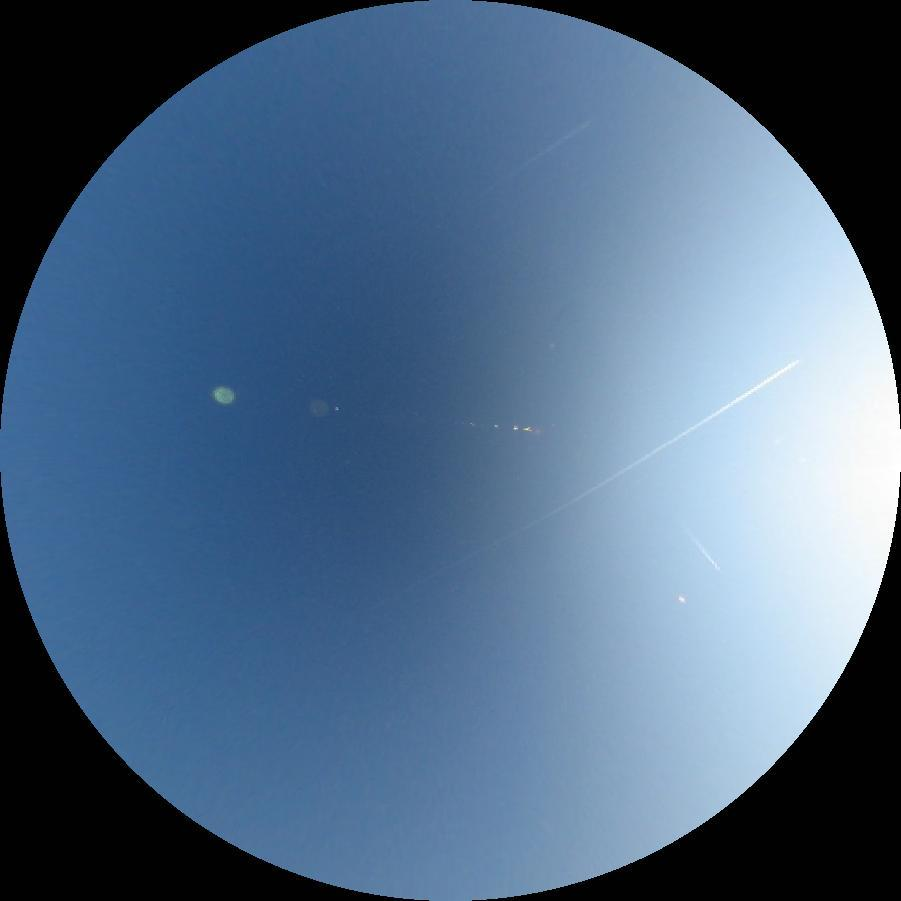contrail young: (400, 357, 803, 602), (487, 119, 593, 191), (680, 525, 723, 575)
